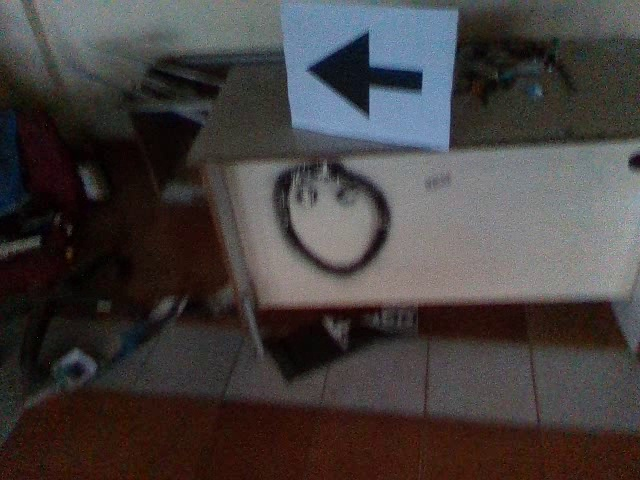Left: (303, 28, 431, 121)
